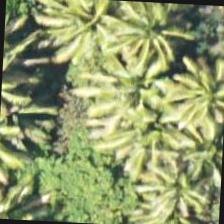Kelapa_Sawit: (100, 86, 194, 180), (131, 134, 223, 223), (104, 0, 198, 71), (37, 0, 131, 60), (164, 101, 224, 195), (125, 172, 220, 223)
